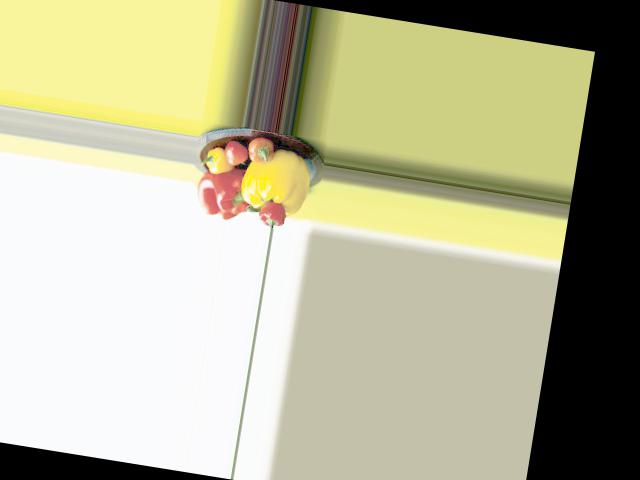bell_pepper: (201, 146, 232, 176)
